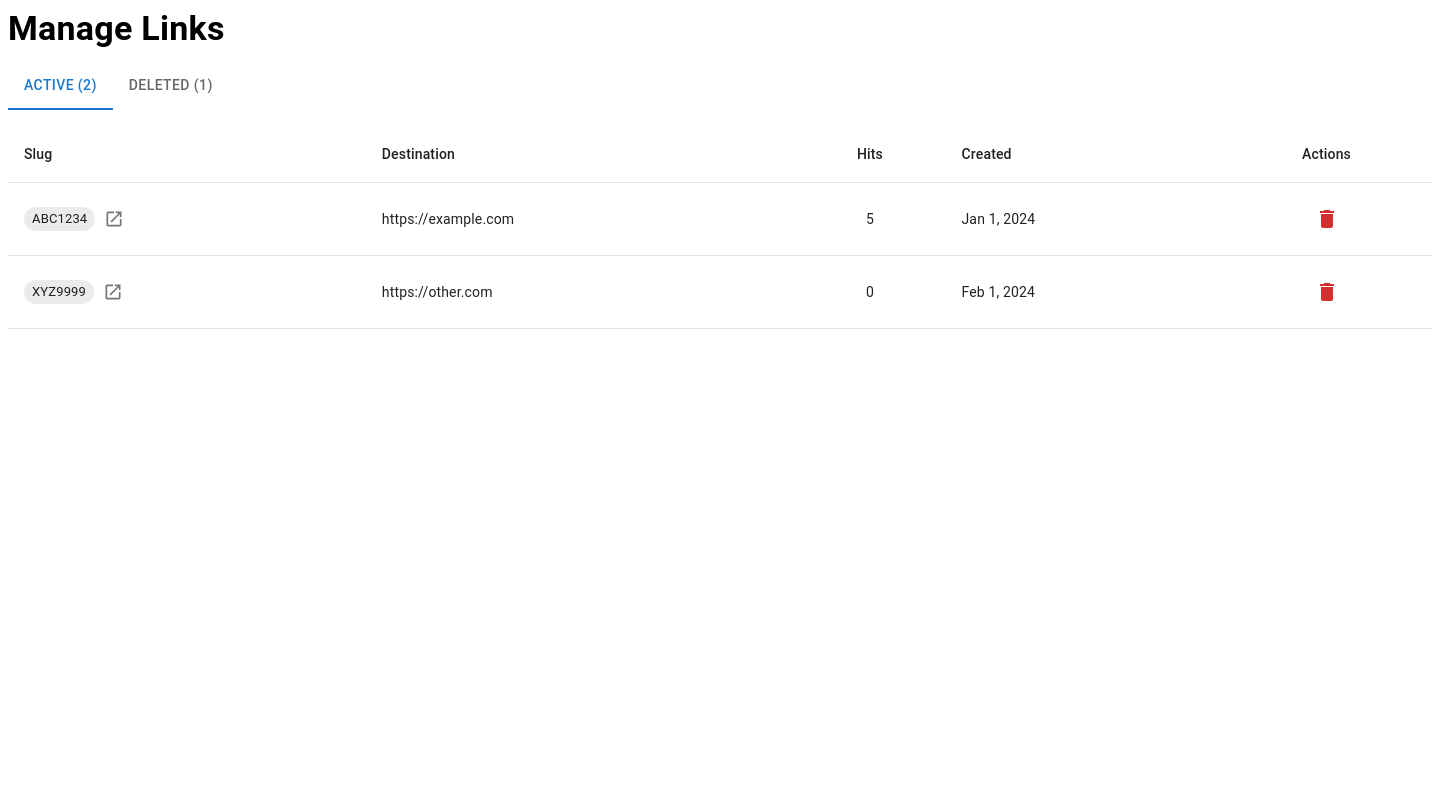
Scenario: List page › opens confirm dialog when delete is clicked
This screenshot has width=1440, height=810.
Check: the text "ABC1234" is shown, box left=32, top=211, right=87, bottom=226
Step 1. Click the button named "delete" in the row of "ABC1234" → (1326, 219), box left=1306, top=199, right=1346, bottom=239
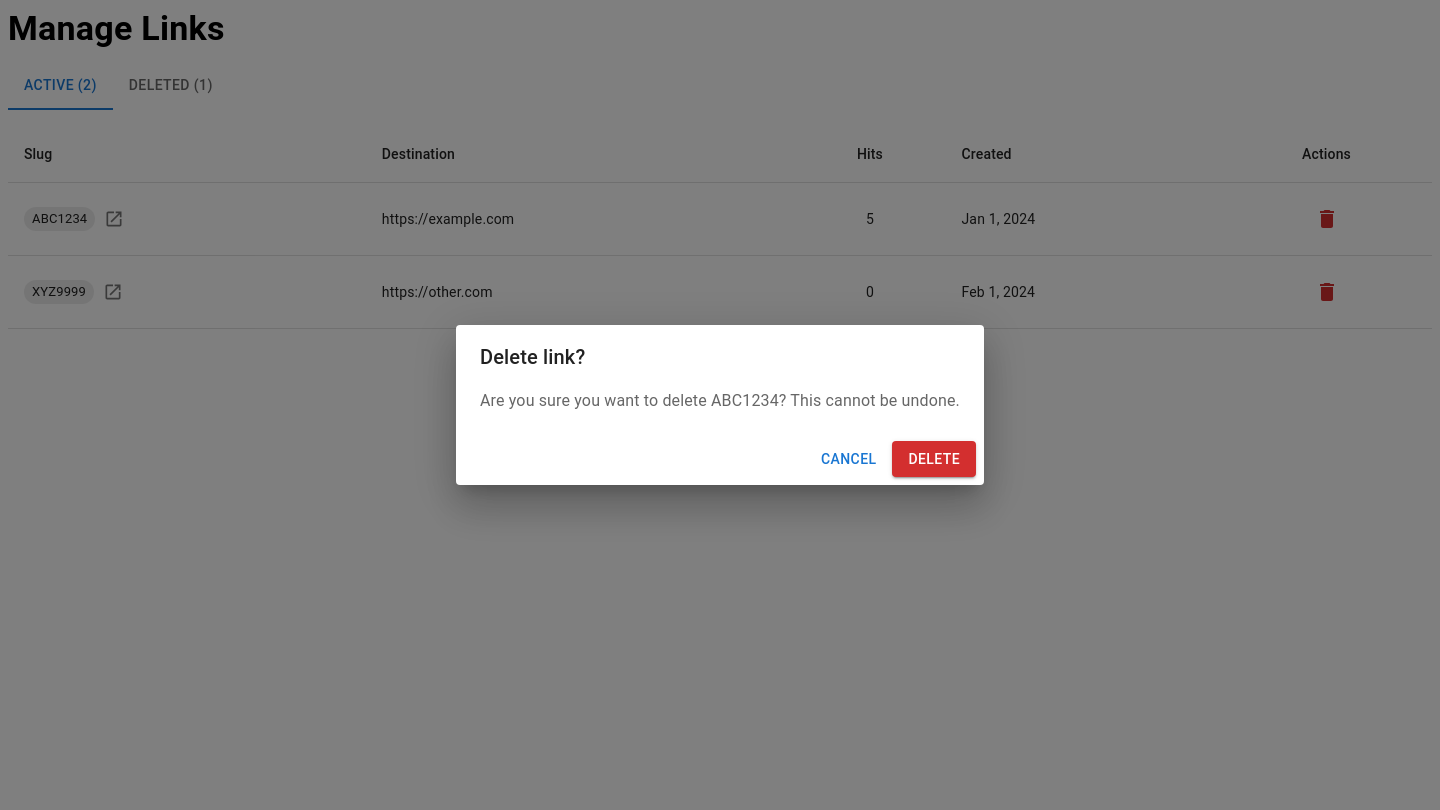
Check: the text "Are you sure you want to delete ABC1234" is shown, box left=480, top=391, right=960, bottom=410
